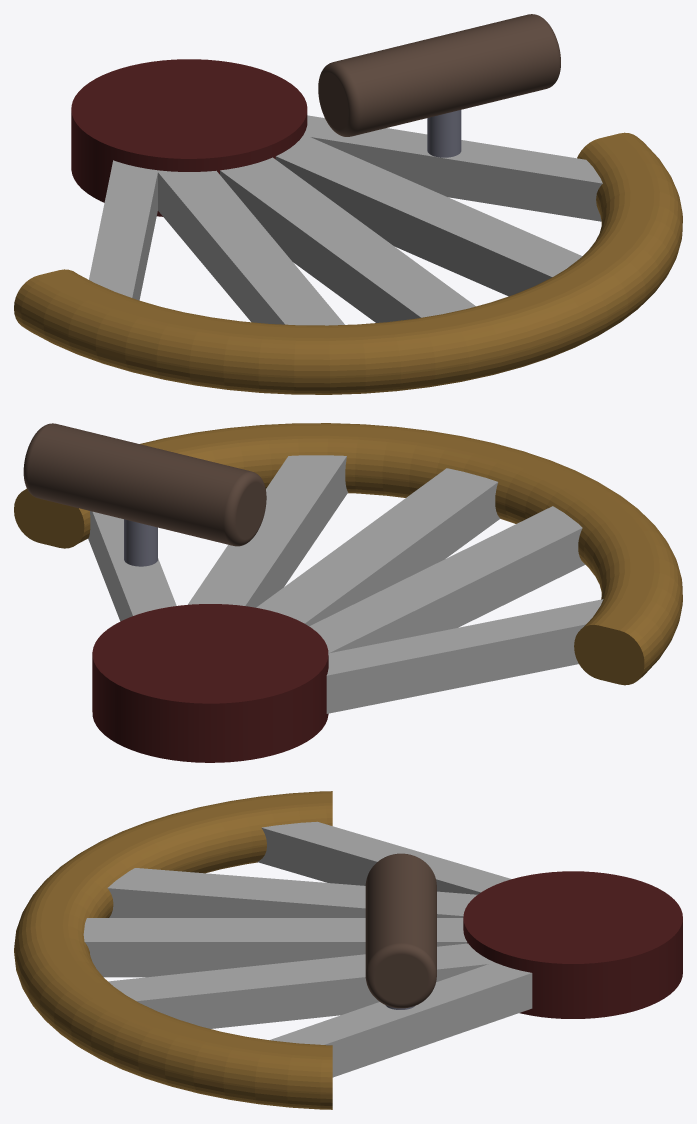
File: Sextant.gltf
The picture shows the model from 3 angles, top to bottom: view 1: azimuth 30°, elevation 25°; view 2: azimuth 150°, elevation 25°; view 3: azimuth 270°, elevation 25°; orthographic projection. The views are drawn at different scales.
Parts seen in each view (by area): view 1: Tube & Box 1, Cylinder, Cylinder 1, Box 2, Box, Box 5, Box 3, Box 4, Cylinder 2; view 2: Tube & Box 1, Cylinder, Cylinder 1, Box 3, Box 4, Box, Box 2, Box 5, Cylinder 2; view 3: Tube & Box 1, Cylinder, Box, Box 2, Box 5, Box 3, Cylinder 1, Box 4.
Boxes of the visible parts, bbox=[...] form: Tube & Box 1: bbox=[14, 132, 682, 394]; Cylinder: bbox=[71, 59, 307, 216]; Cylinder 1: bbox=[318, 14, 560, 136]; Box 2: bbox=[275, 134, 582, 296]; Box: bbox=[220, 157, 475, 322]; Box 5: bbox=[303, 115, 602, 221]; Box 3: bbox=[158, 170, 344, 325]; Box 4: bbox=[89, 160, 158, 300]; Cylinder 2: bbox=[427, 110, 461, 157]; Tube & Box 1: bbox=[14, 423, 682, 685]; Cylinder: bbox=[92, 604, 328, 762]; Cylinder 1: bbox=[23, 423, 266, 546]; Box 3: bbox=[309, 506, 585, 653]; Box 4: bbox=[326, 599, 603, 713]; Box: bbox=[256, 468, 500, 626]; Box 2: bbox=[187, 455, 348, 607]; Box 5: bbox=[88, 511, 176, 621]; Cylinder 2: bbox=[124, 519, 157, 566]; Tube & Box 1: bbox=[14, 791, 332, 1109]; Cylinder: bbox=[463, 871, 682, 1018]; Box: bbox=[83, 918, 467, 977]; Box 2: bbox=[108, 943, 494, 1028]; Box 5: bbox=[269, 962, 532, 1077]; Box 3: bbox=[107, 868, 477, 917]; Cylinder 1: bbox=[365, 853, 436, 1008]; Box 4: bbox=[257, 821, 511, 894].
Bounding box in the file's own units: 0.1671 × 0.0397 × 0.1651.
